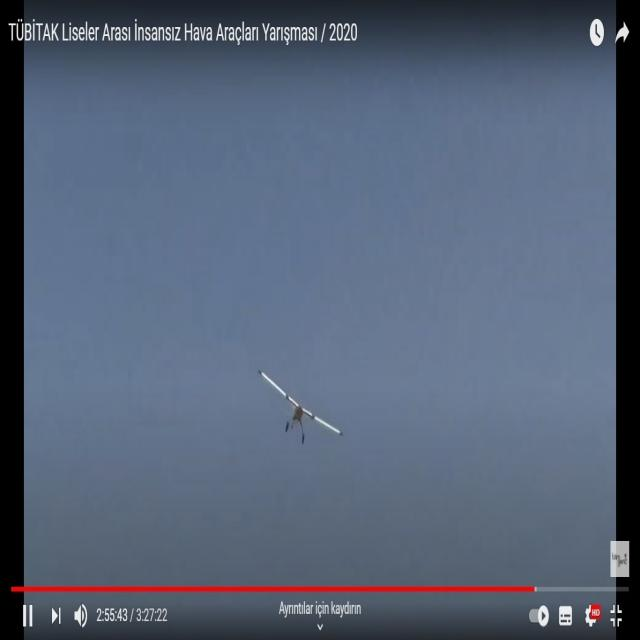iha: (289, 401, 312, 413)
